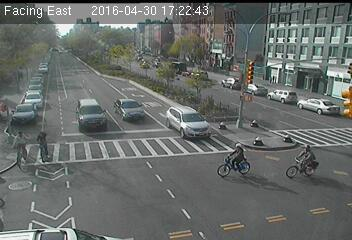neg: (218, 135, 257, 188), (289, 137, 326, 187), (5, 126, 36, 168), (30, 127, 53, 159), (168, 63, 190, 93), (289, 69, 300, 83)
